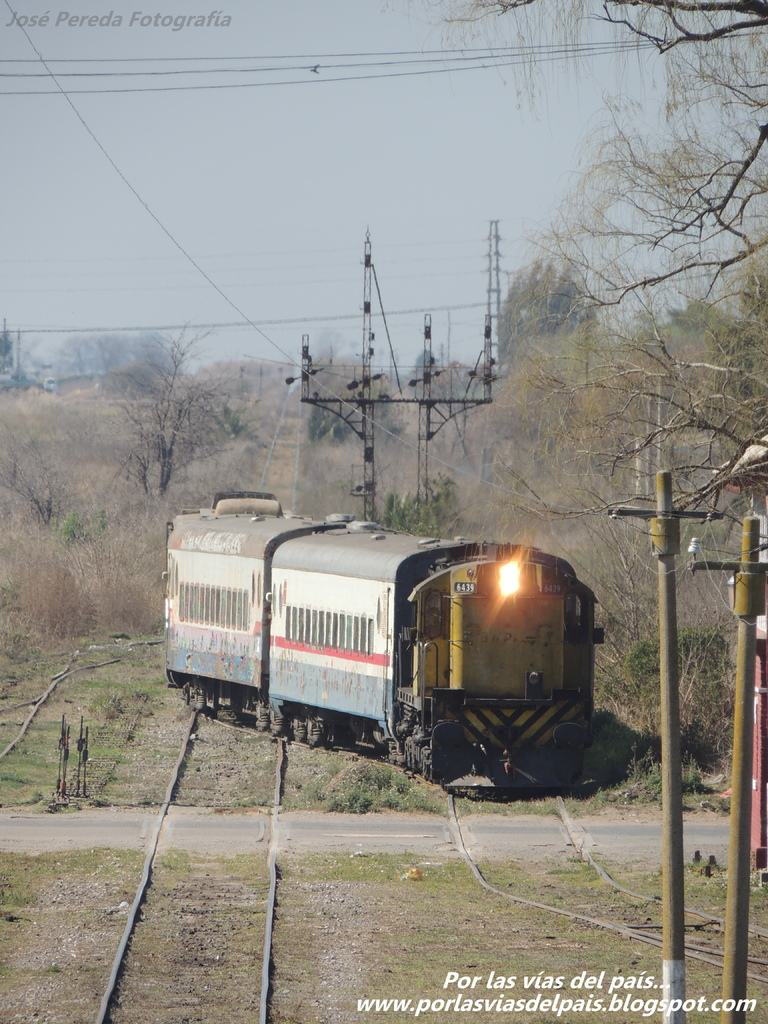train: (151, 480, 604, 789)
